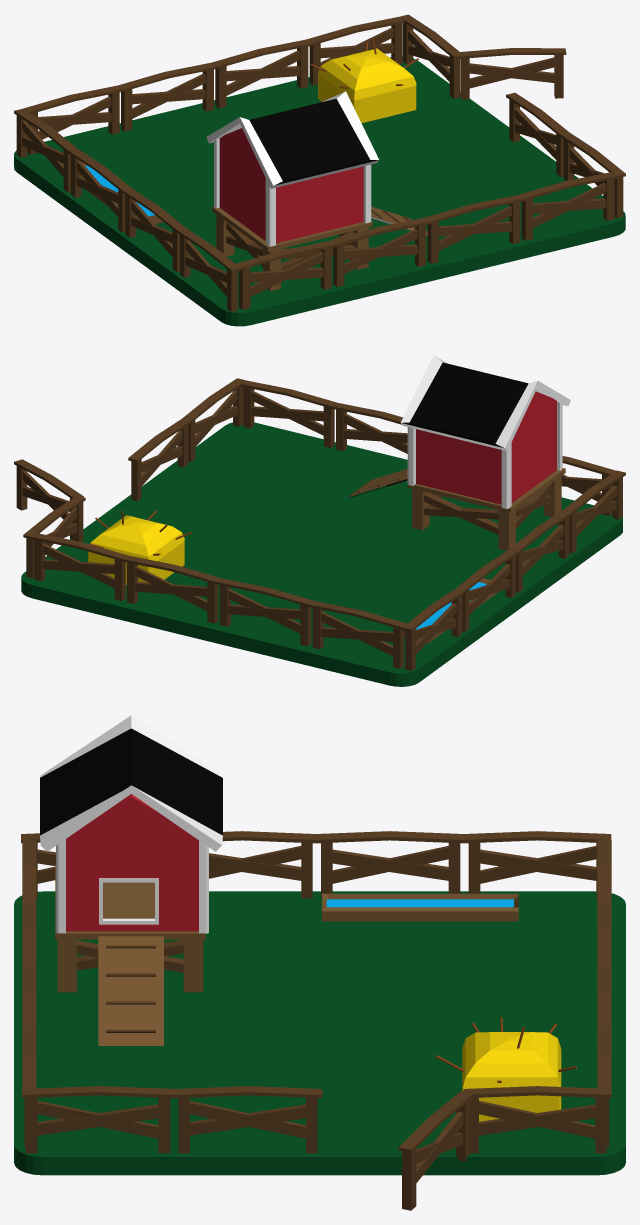
The model's file is poultryfarm.glb.
3 views of the same model, one above another, from view 1: azimuth 30°, elevation 25°; view 2: azimuth 150°, elevation 25°; view 3: azimuth 270°, elevation 25° (orthographic). The views are drawn at different scales.
Parts seen in each view (by area): view 1: Object_2; view 2: Object_2; view 3: Object_2.
Part boxes in pixels (left/top/right/bottom): Object_2: left=14, top=14, right=625, bottom=326; Object_2: left=14, top=355, right=625, bottom=686; Object_2: left=14, top=715, right=625, bottom=1210.
Bounding box in the file's own units: 7.37 × 2.47 × 6.
1 material, 1 textured.
